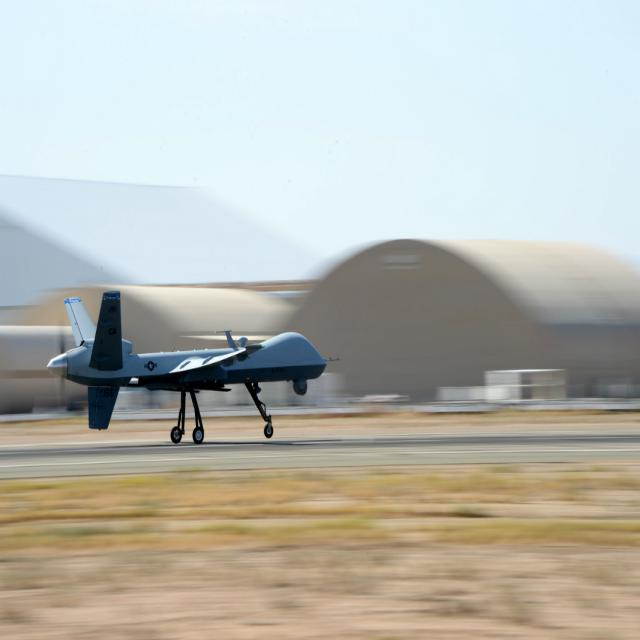MIL_Plane: (46, 290, 342, 444)
